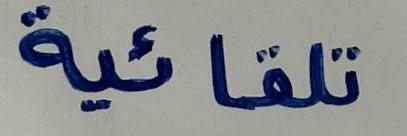alef: (192, 10, 239, 115)
hamza: (120, 6, 188, 112)
lam: (299, 23, 329, 120)
qaf: (241, 33, 296, 119)
teh: (330, 33, 380, 119)
teh_marbota: (10, 1, 78, 99)
yeh: (79, 29, 118, 119)
